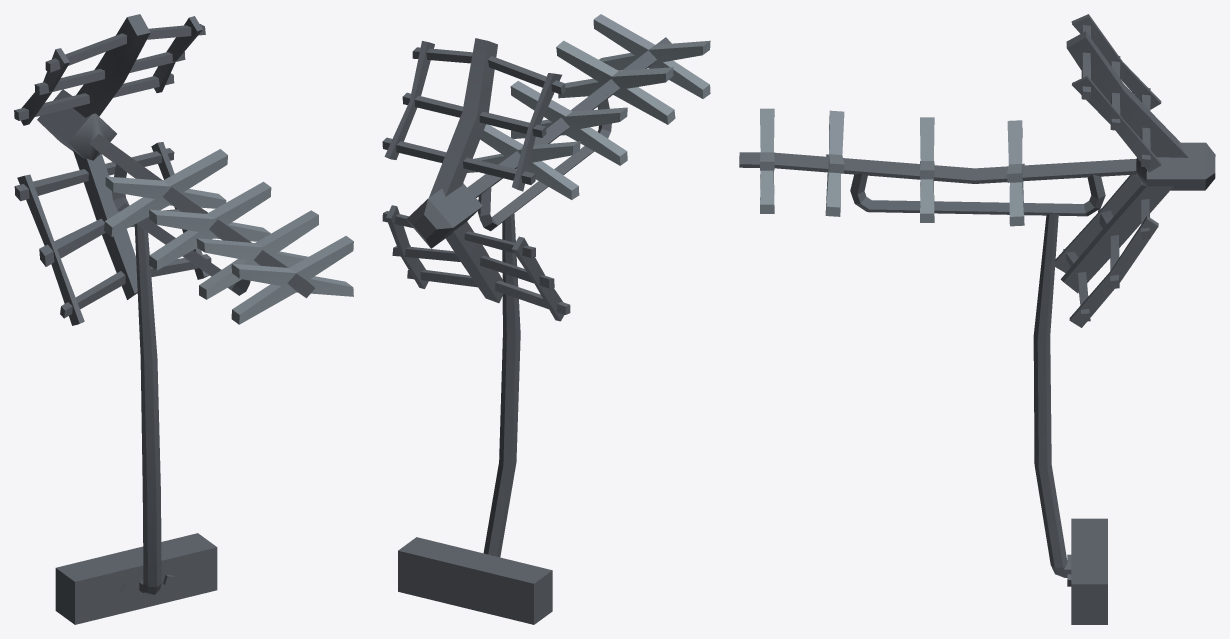
File: SM_Prop_TV_Antenna_03.glb
3 renders of one model, left to right at view 1: azimuth 30°, elevation 25°; view 2: azimuth 150°, elevation 25°; view 3: azimuth 270°, elevation 25°, orthographic. The views are drawn at different scales.
Parts seen in each view (by area): view 1: SM_Prop_TV_Antenna_03; view 2: SM_Prop_TV_Antenna_03; view 3: SM_Prop_TV_Antenna_03.
Part boxes in pixels (x1,y1,x2,y2): SM_Prop_TV_Antenna_03: (14,14,353,624); SM_Prop_TV_Antenna_03: (382,14,710,624); SM_Prop_TV_Antenna_03: (739,14,1215,624).
Bounding box in the file's own units: 0.5286 × 1.84 × 1.43.
Materials: 1 (1 with a texture image).
